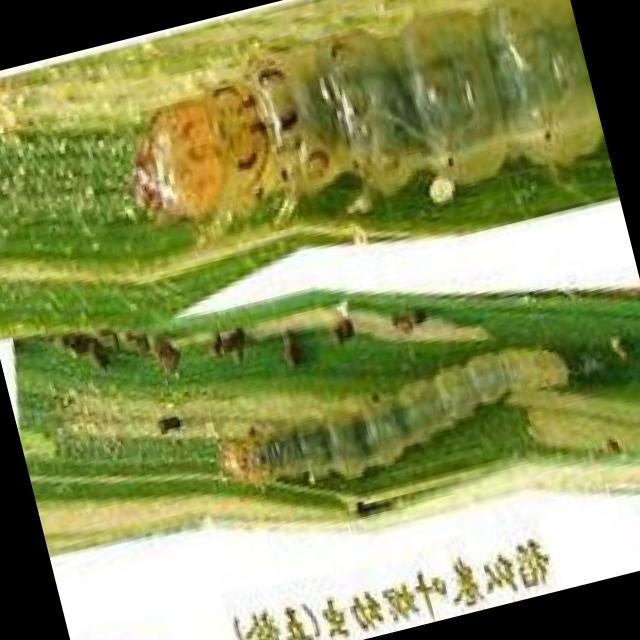leaf-folder: (80, 0, 606, 294), (181, 270, 612, 580)
